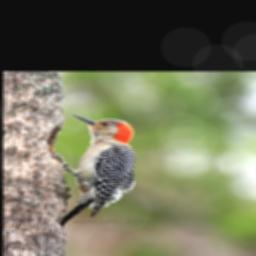Woodpecker: (54, 111, 145, 234)
